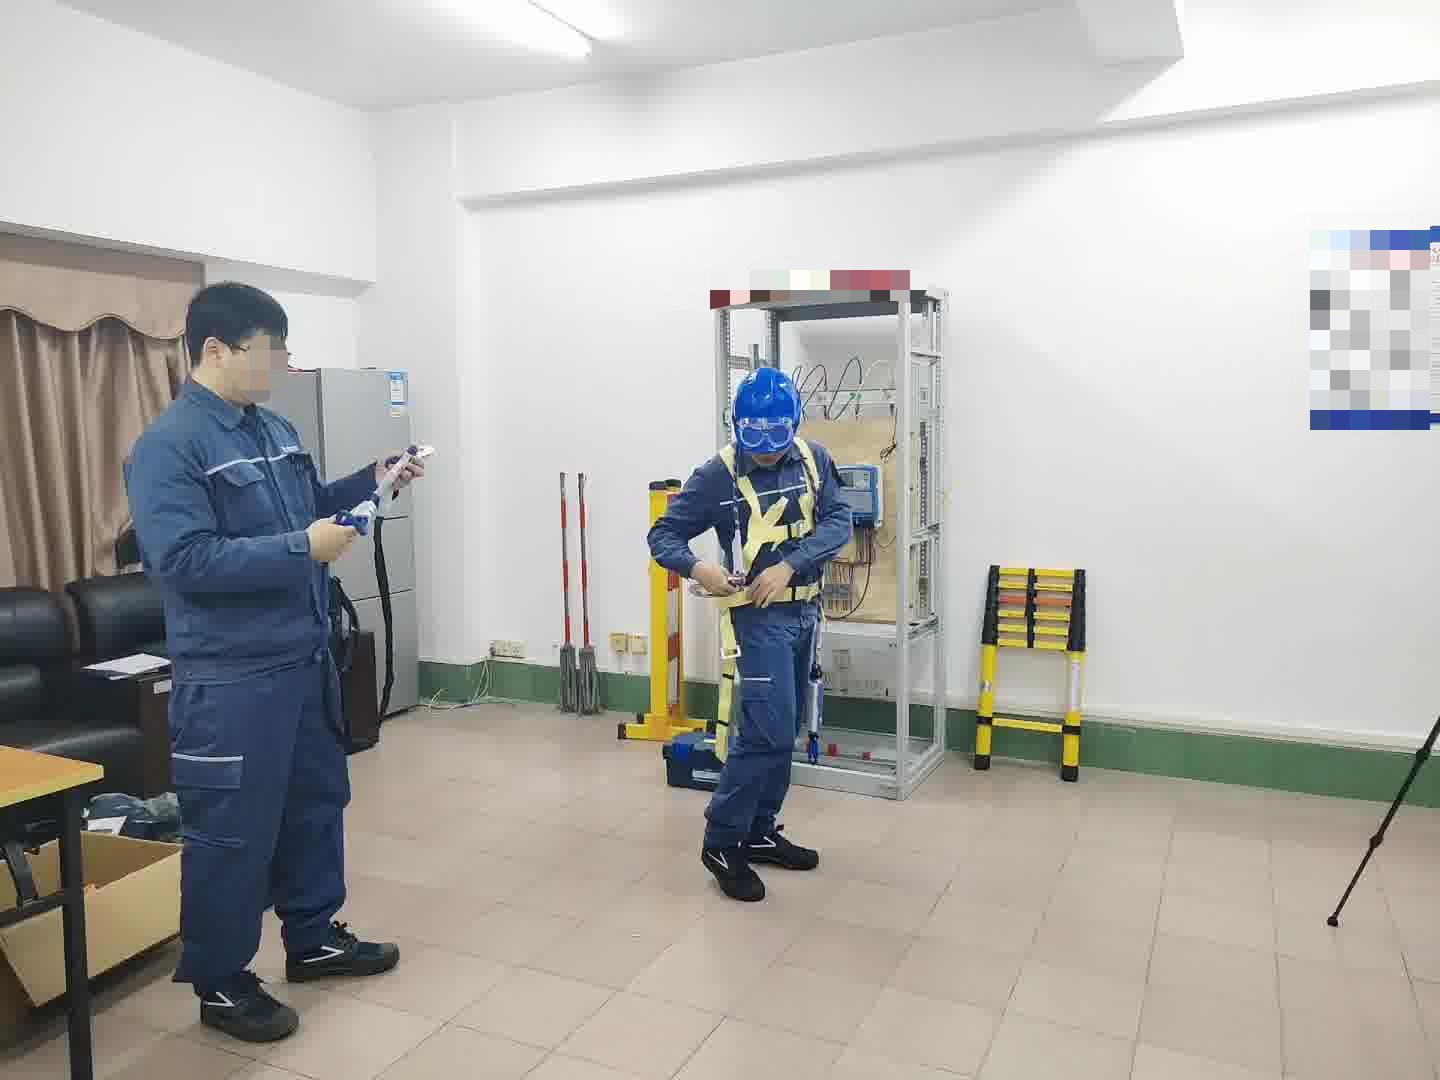halt: (734, 369, 805, 462)
noear: (194, 331, 242, 380)
unhalt: (184, 282, 297, 407)
